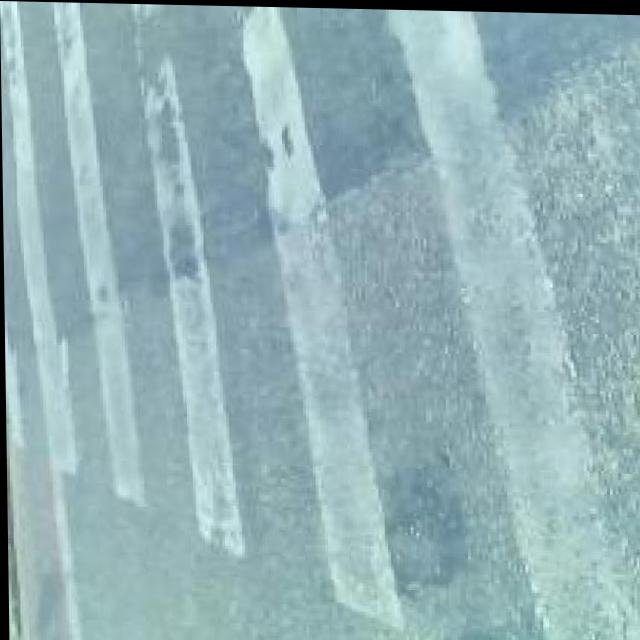zebra: (33, 11, 573, 477)
